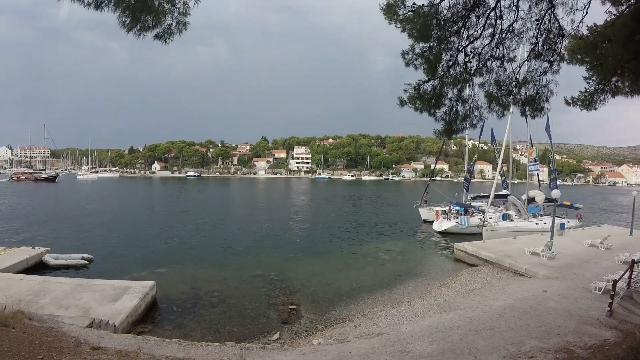Freighter: (7, 166, 63, 186)
Sailboat: (74, 168, 100, 182)
